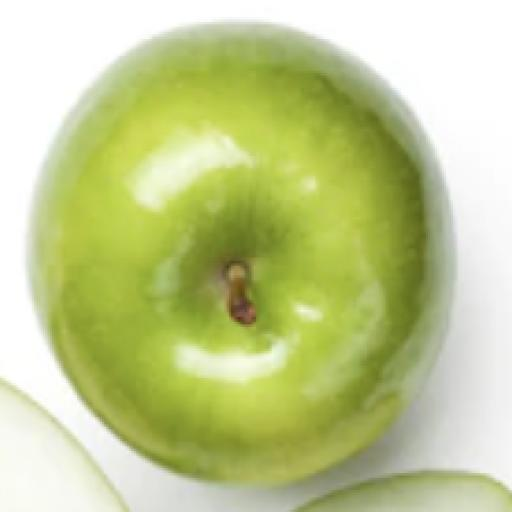apple: (30, 25, 453, 482), (0, 381, 126, 511), (300, 471, 511, 511)
